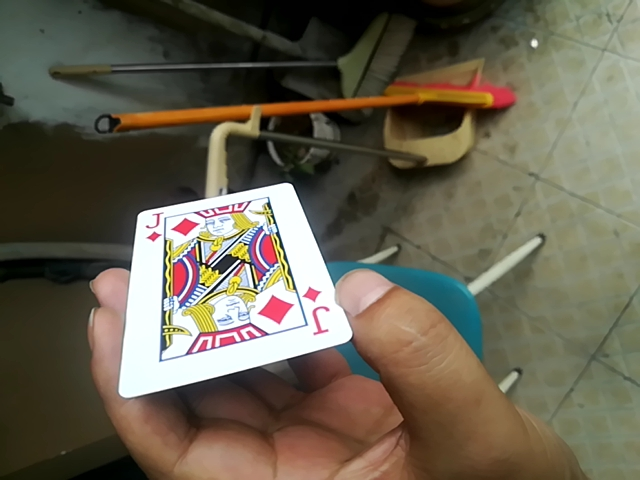fk j: (124, 179, 343, 399)
